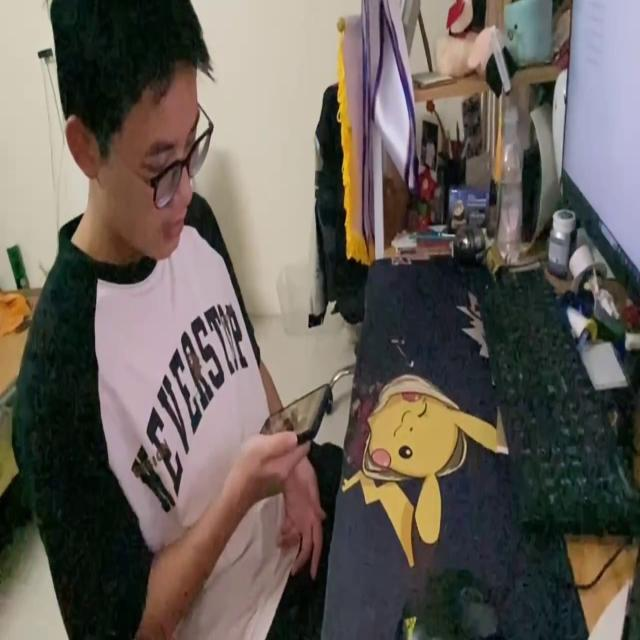laptop: (558, 0, 640, 306)
phone: (258, 380, 332, 440)
student: (14, 0, 340, 640)
